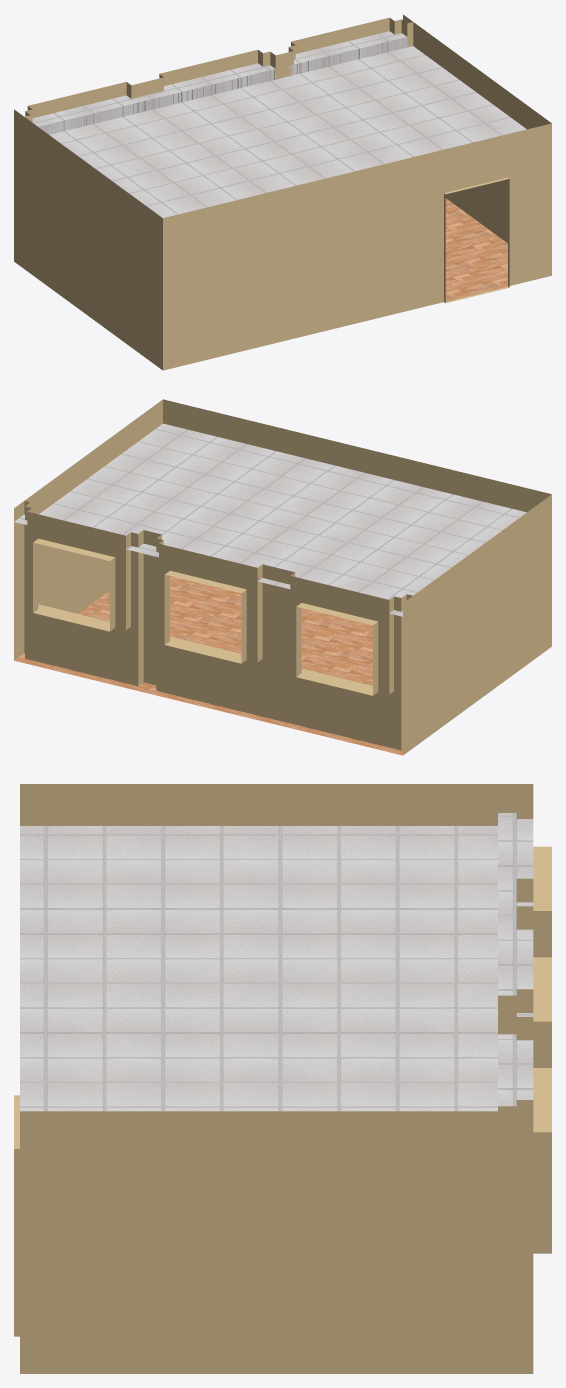
The model's file is room3_2_big.glb.
The picture shows the model from 3 angles, top to bottom: view 1: azimuth 30°, elevation 25°; view 2: azimuth 150°, elevation 25°; view 3: azimuth 270°, elevation 25°; orthographic projection. The views are drawn at different scales.
Visible parts, largest first — view 1: 4et.015; view 2: 4et.015; view 3: 4et.015.
Part boxes in pixels (box(x1,y1,x2,y2)): 4et.015: box(14, 14, 551, 370); 4et.015: box(14, 399, 551, 755); 4et.015: box(14, 784, 551, 1373).
Bounding box in the file's own units: 8.82 × 3.3 × 6.13.
3 materials, 2 textured.
